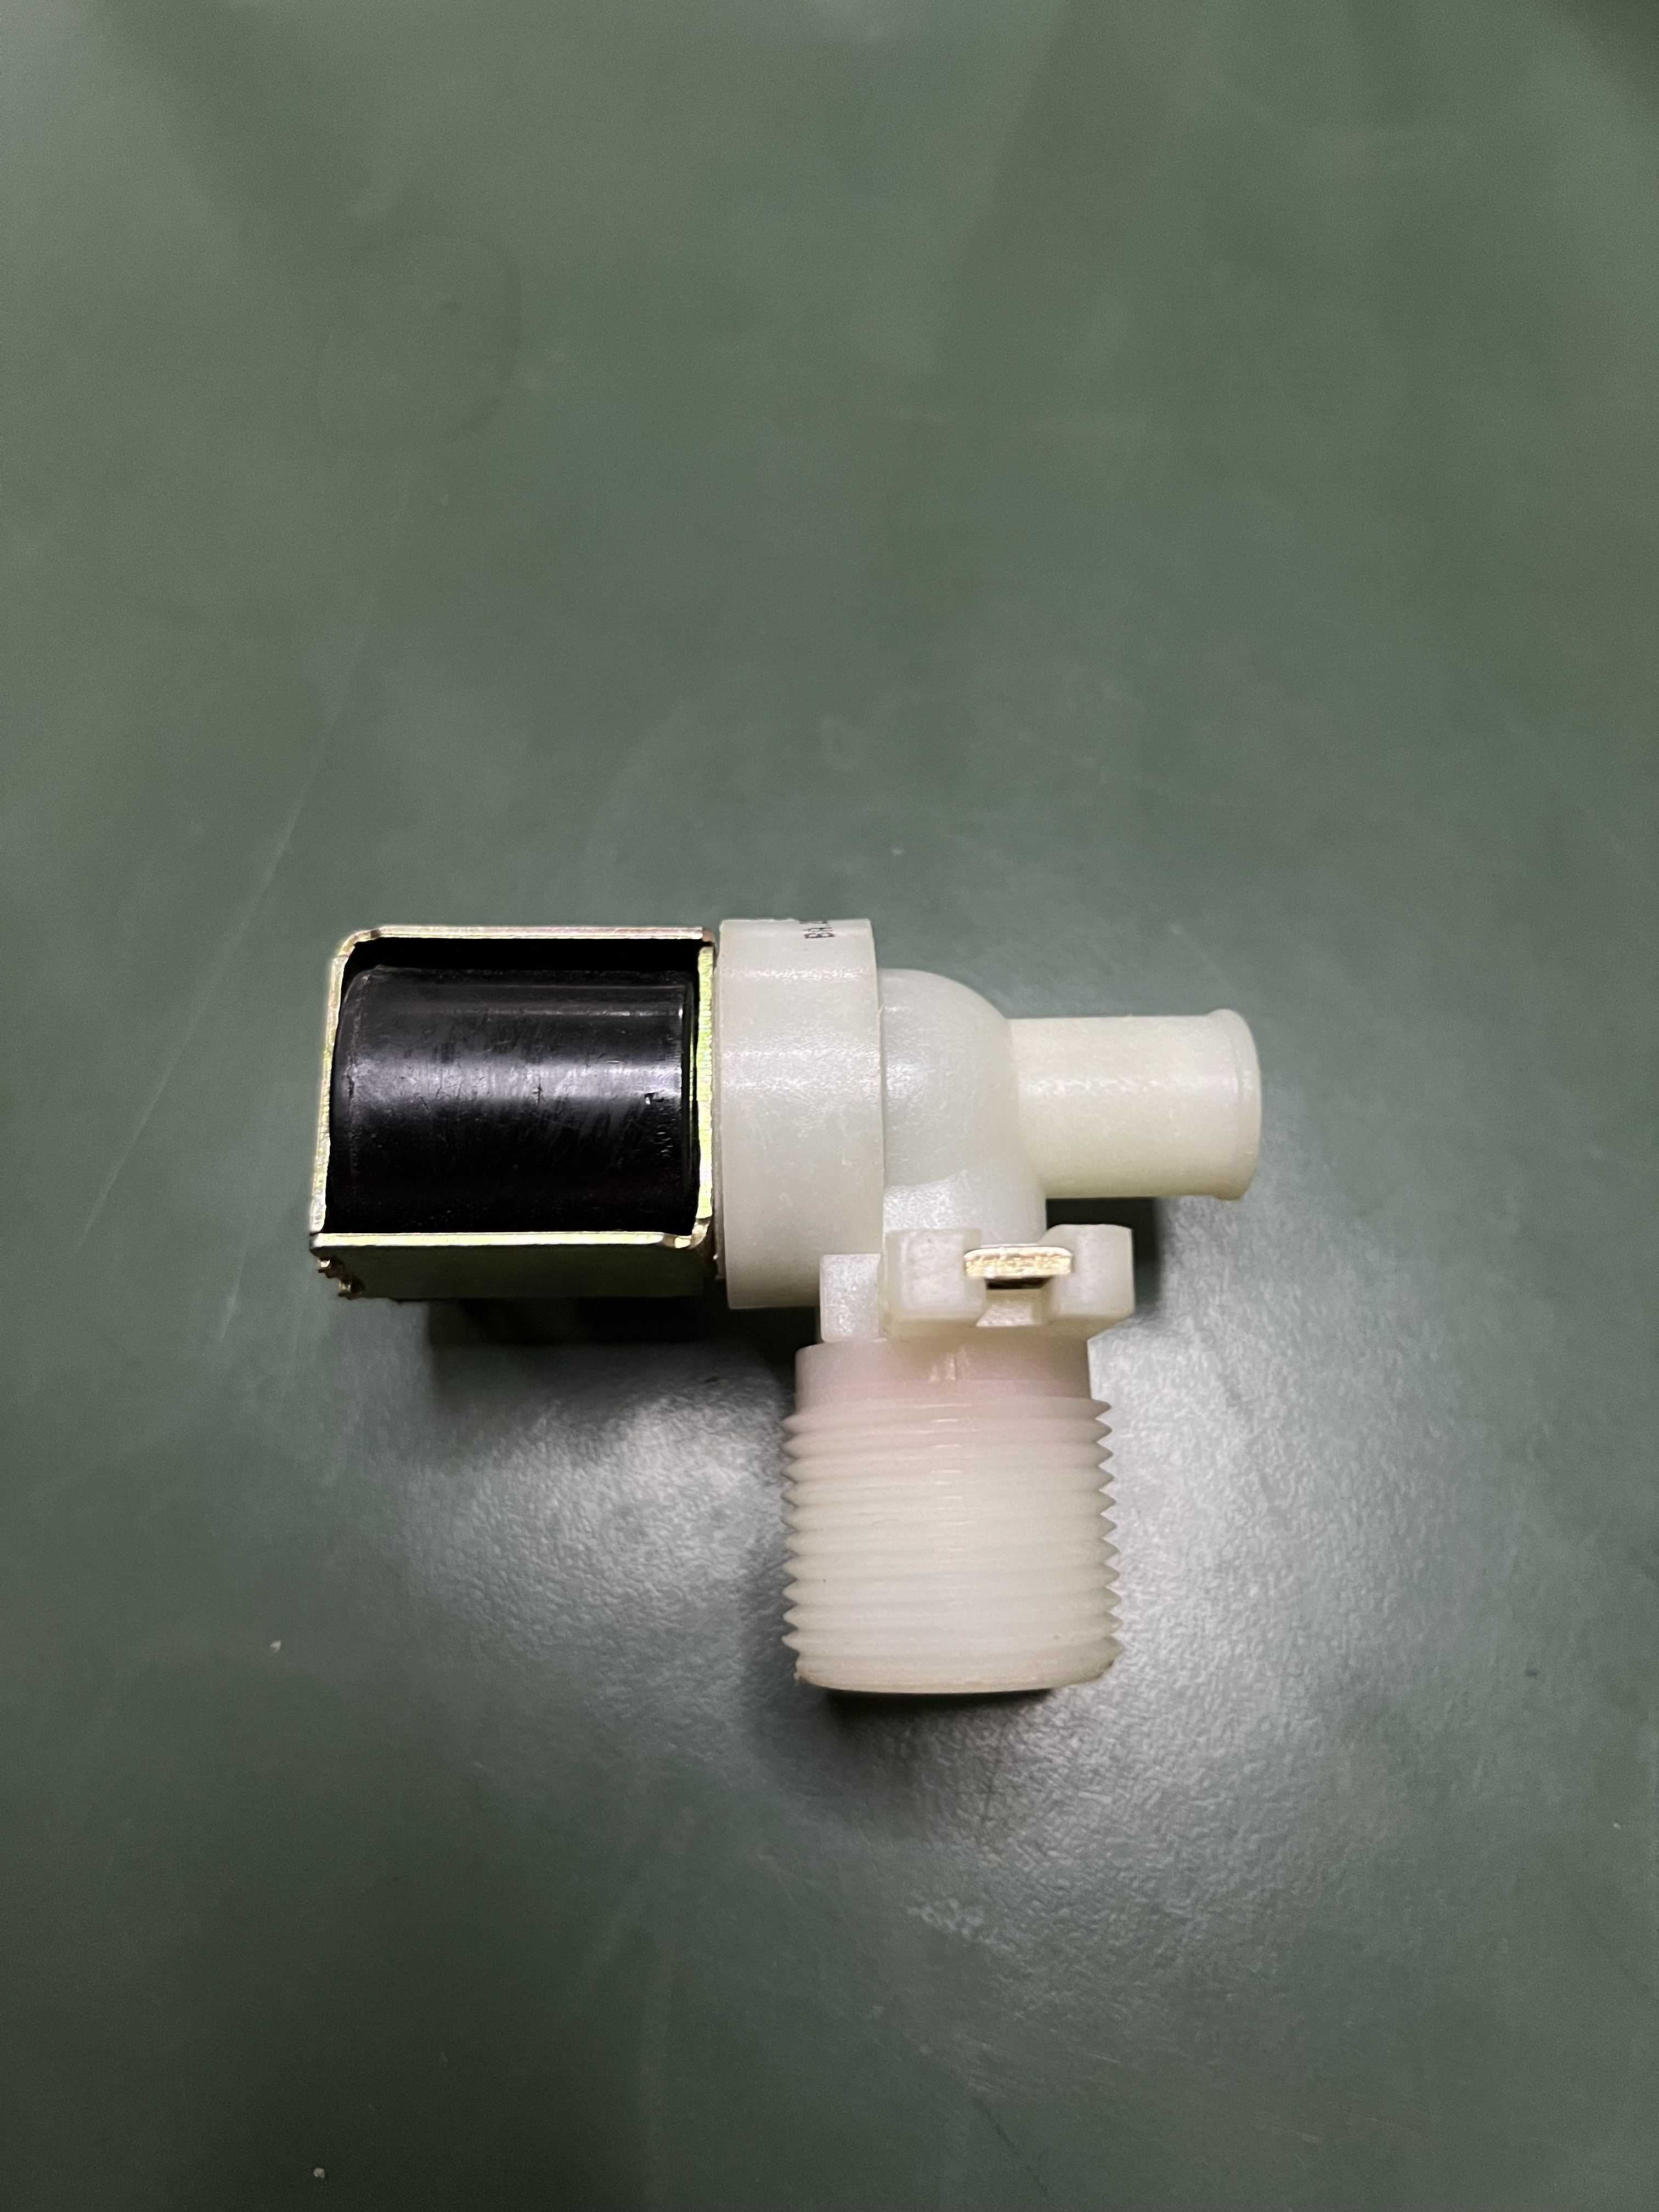godrej_inlet_valves: (216, 900, 1274, 1721)
